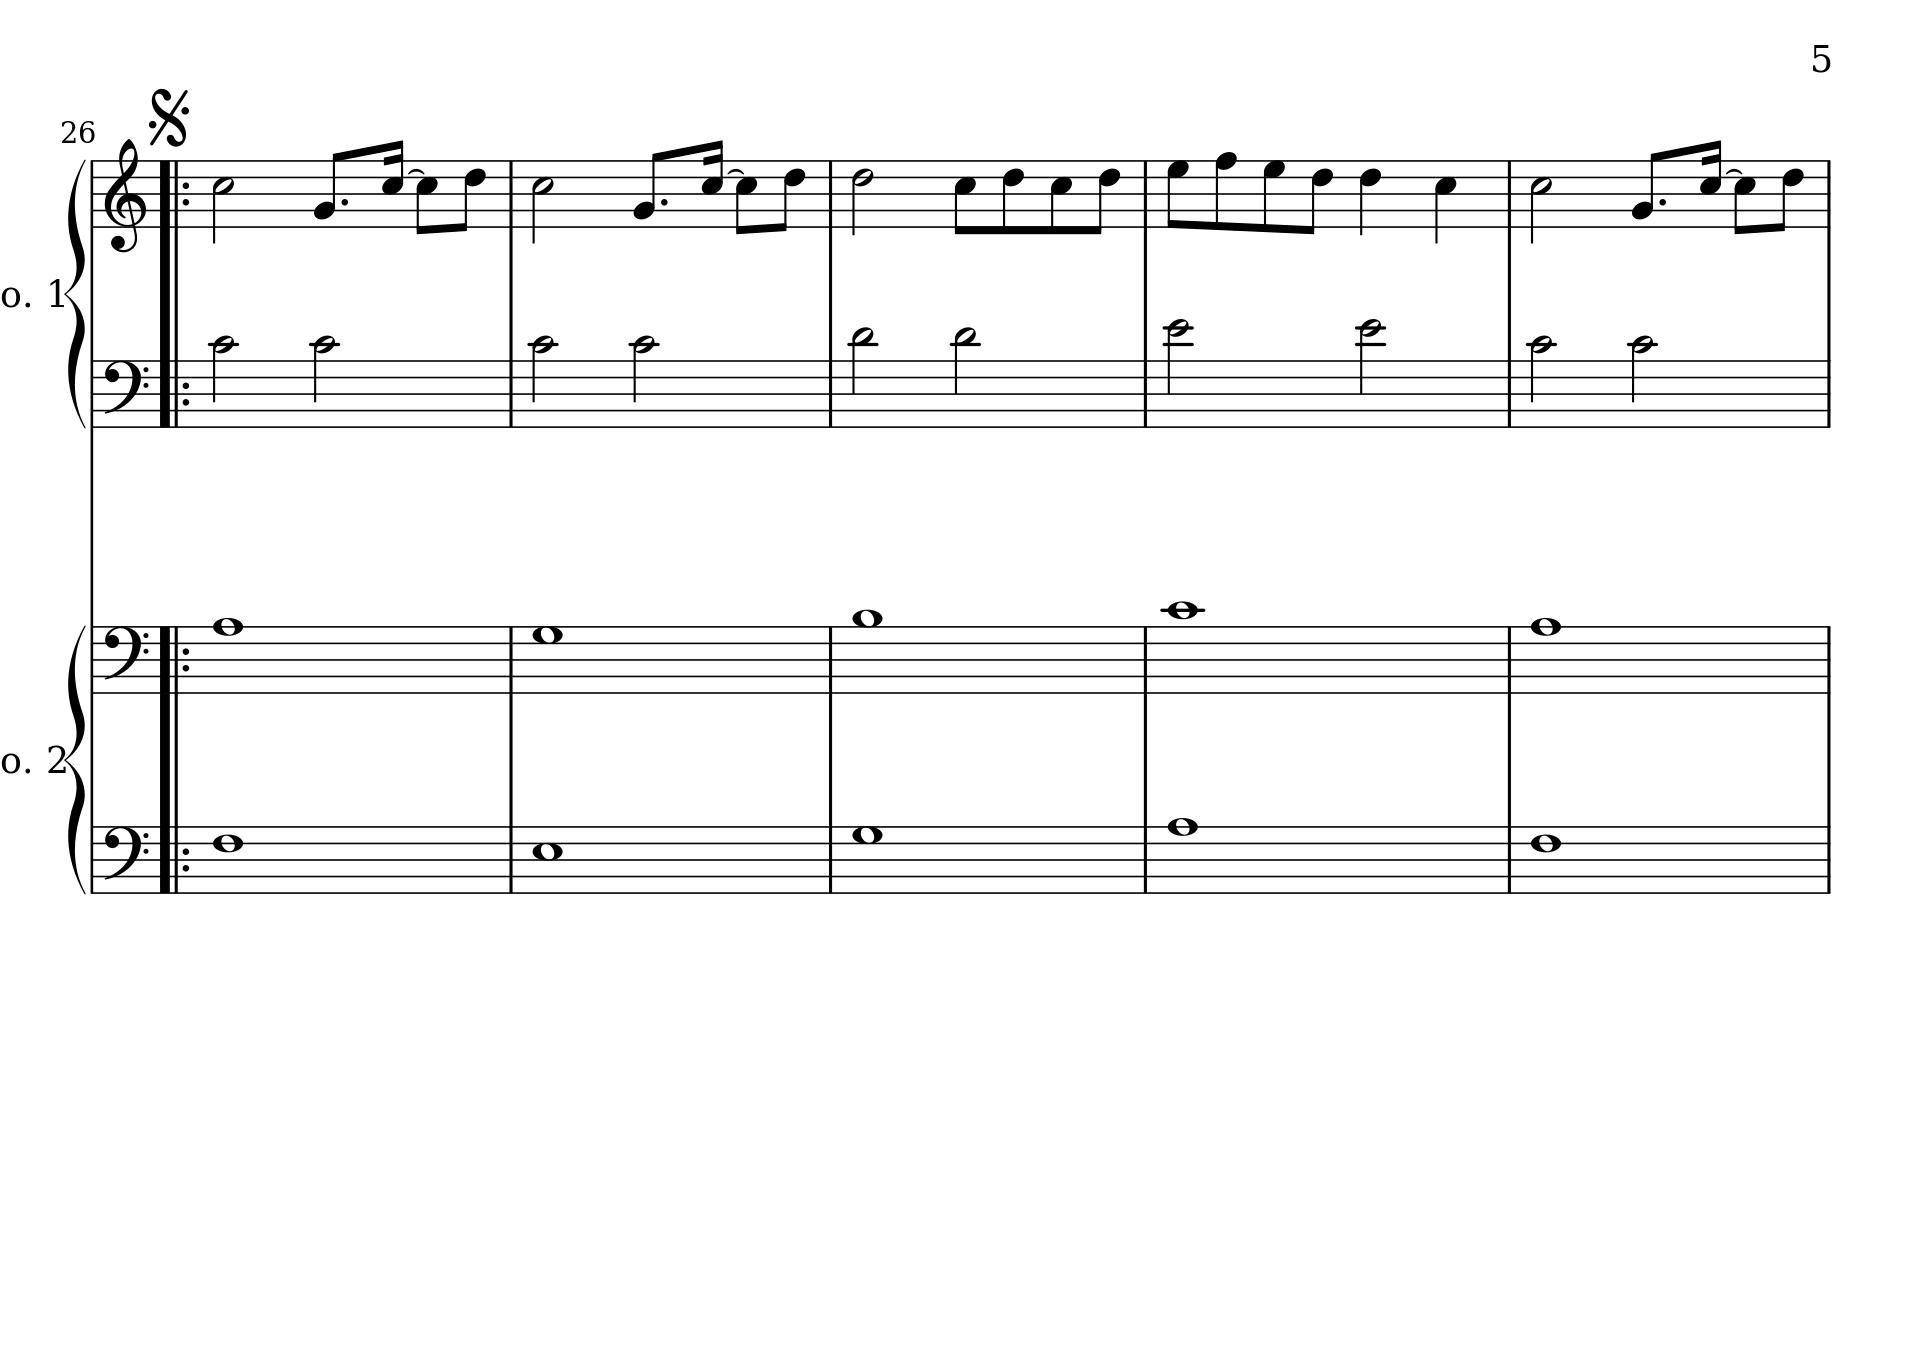16_5: (379, 137, 404, 229), (1698, 137, 1722, 229), (700, 138, 724, 229)
1_10: (1165, 600, 1200, 696)
1_5: (532, 824, 563, 896)
1_6: (1529, 824, 1563, 896), (212, 824, 244, 896)
1_7: (531, 624, 565, 696), (850, 824, 884, 896)
1_8: (210, 615, 246, 697), (1529, 615, 1563, 696), (1166, 815, 1198, 896)
1_9: (850, 607, 884, 696)
2: (59, 118, 78, 144)
2_10: (207, 332, 240, 431), (1526, 332, 1557, 429), (1628, 332, 1657, 431), (310, 332, 340, 429), (528, 332, 557, 429), (629, 332, 659, 429)
2_11: (849, 325, 876, 429), (951, 325, 979, 429)
2_12: (1356, 316, 1387, 431), (1163, 316, 1194, 429)
2_5: (529, 157, 554, 246), (1528, 157, 1553, 246), (210, 159, 235, 244)
2_6: (850, 157, 874, 235)
4_5: (1432, 157, 1457, 247)
4_6: (1357, 157, 1382, 238)
5: (1809, 40, 1834, 75)
6: (76, 118, 97, 146)
8_2: (1629, 149, 1662, 229), (312, 149, 344, 228), (631, 150, 663, 229)
8_5: (415, 157, 440, 237), (951, 157, 976, 237), (732, 157, 757, 235), (1048, 157, 1073, 235), (1732, 157, 1757, 235)
8_6: (1090, 157, 1122, 235), (1303, 157, 1335, 235), (454, 157, 487, 232), (775, 157, 806, 232), (1773, 157, 1804, 232), (1001, 157, 1026, 235)
8_7: (1262, 157, 1287, 232), (1165, 157, 1190, 229)
8_8: (1212, 150, 1238, 232)
Brace: (65, 151, 90, 428), (65, 621, 88, 896)
Fclef: (100, 357, 150, 429), (101, 624, 150, 694), (101, 824, 149, 894)
Gclef: (101, 135, 147, 254)
RightRepeatSign: (154, 627, 193, 693), (157, 825, 193, 894), (156, 160, 193, 226), (156, 360, 193, 427)
Segno: (146, 84, 193, 149)
Single_barline: (819, 825, 843, 893), (1135, 825, 1157, 893), (1498, 825, 1521, 891), (821, 627, 841, 693), (501, 160, 521, 226), (501, 360, 521, 427), (1135, 627, 1154, 693), (1500, 627, 1519, 693), (501, 825, 521, 891), (501, 627, 521, 691), (1818, 827, 1837, 891), (822, 359, 840, 427), (822, 160, 840, 226), (1501, 160, 1519, 226), (1819, 360, 1837, 427), (1819, 627, 1837, 691), (1821, 159, 1837, 228), (85, 624, 101, 693), (85, 159, 101, 226), (1138, 359, 1154, 427), (1501, 359, 1518, 427), (1138, 160, 1154, 226), (87, 360, 101, 427), (87, 827, 101, 893)
Slur: (725, 168, 747, 176), (1723, 168, 1746, 176), (406, 168, 426, 175)
dot: (1656, 194, 1668, 207), (338, 196, 350, 207), (657, 196, 669, 207)
